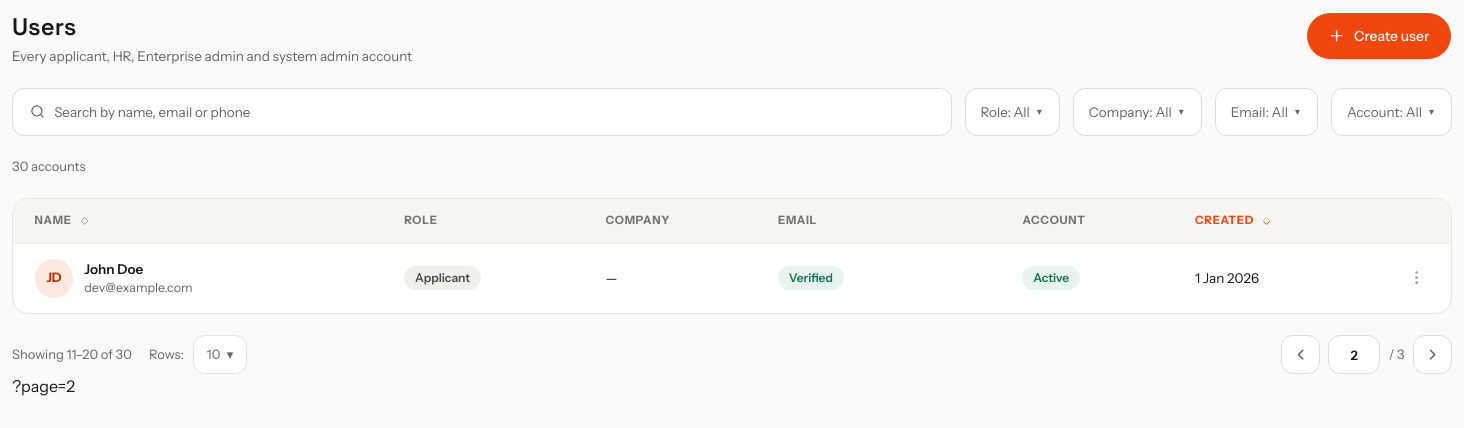
Test case: UsersPage › filters by email status and returns to the first page
Click the button "Email: All ▾".
click(1266, 112)  # box [1215,88,1318,136]
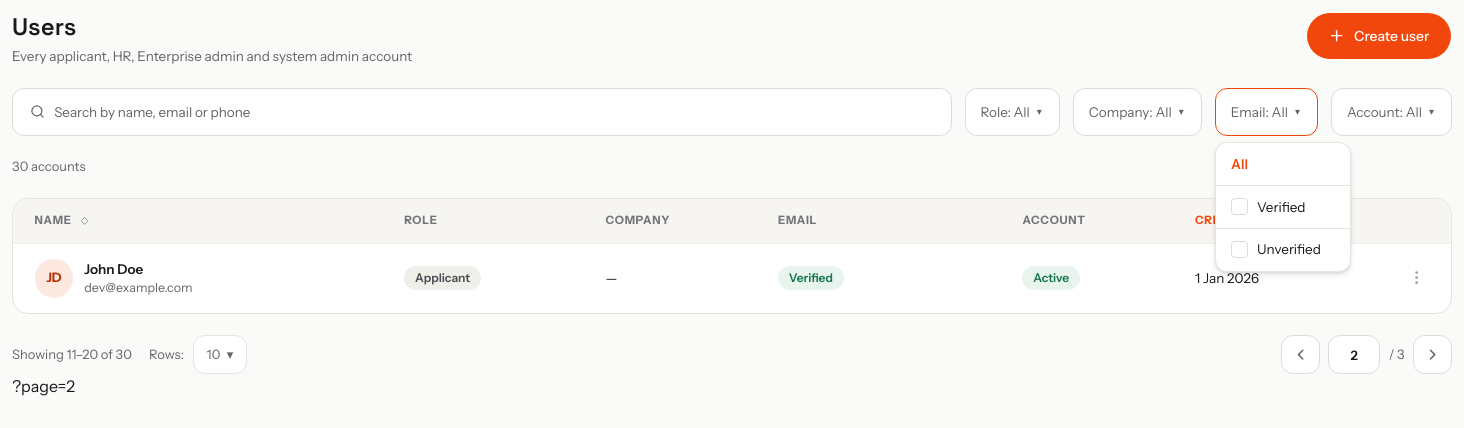
The only "Unverified" on screen is the filter option (the fixture account is verified).
Click the menu item "Unverified".
click(1283, 249)  # box [1216,228,1350,270]
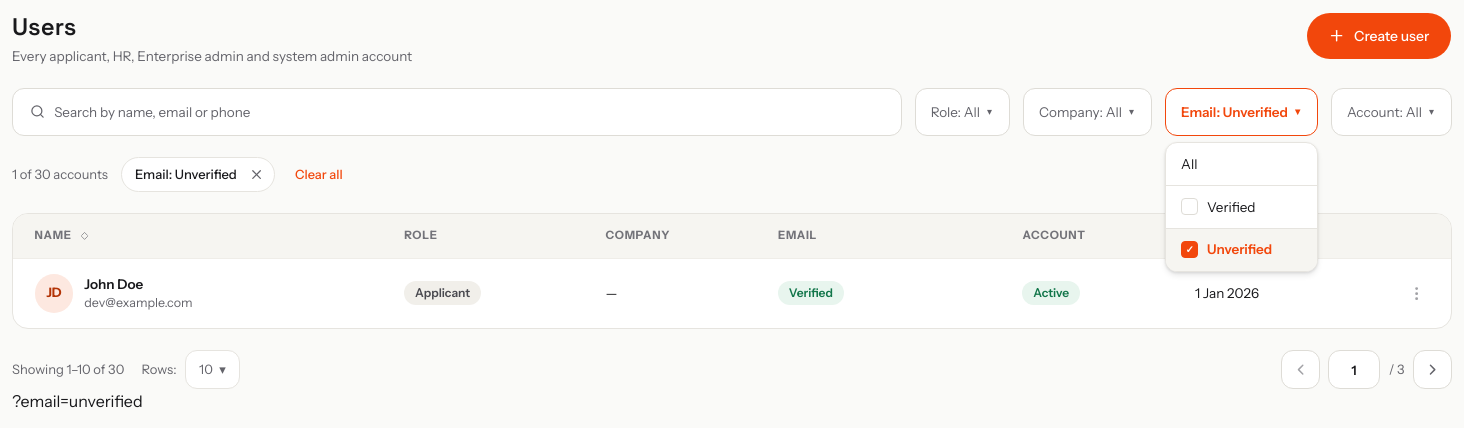
Result: the text with test id "location" no longer shows "page=2" at [12,391,143,411]
Result: the text with test id "location" shows "email=unverified" at [12,391,143,411]
